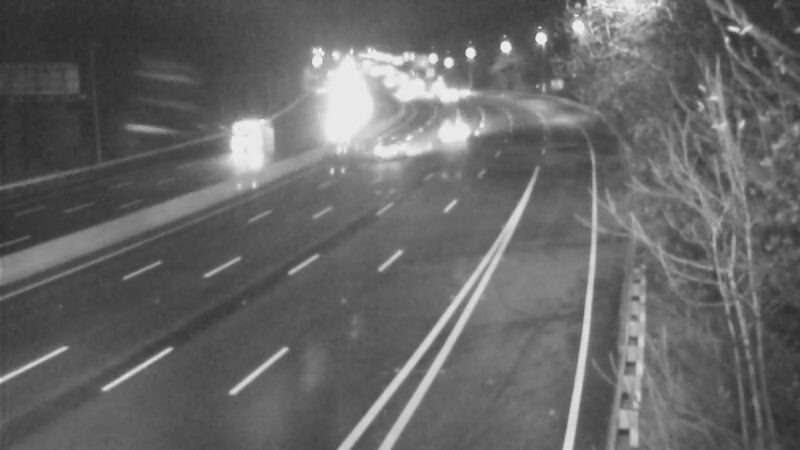vehicle: (405, 60, 455, 110), (445, 70, 495, 120), (419, 69, 469, 119), (430, 107, 480, 157), (380, 124, 430, 174), (216, 117, 266, 167)
